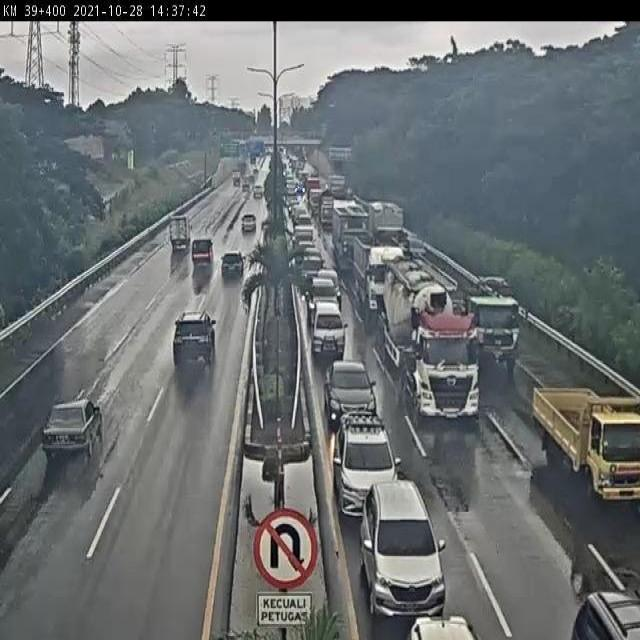big truck: (381, 254, 475, 414), (438, 260, 524, 363), (346, 222, 404, 314), (363, 192, 406, 253), (325, 203, 366, 265)
car: (353, 477, 454, 608), (332, 402, 403, 506), (31, 390, 107, 466), (562, 569, 640, 640), (319, 349, 380, 423), (163, 302, 220, 370), (401, 601, 481, 640), (306, 299, 349, 353), (215, 256, 247, 285), (305, 268, 342, 293), (189, 238, 212, 274), (238, 213, 256, 243), (298, 247, 326, 265)
small truck: (521, 365, 640, 496), (163, 214, 196, 258)
